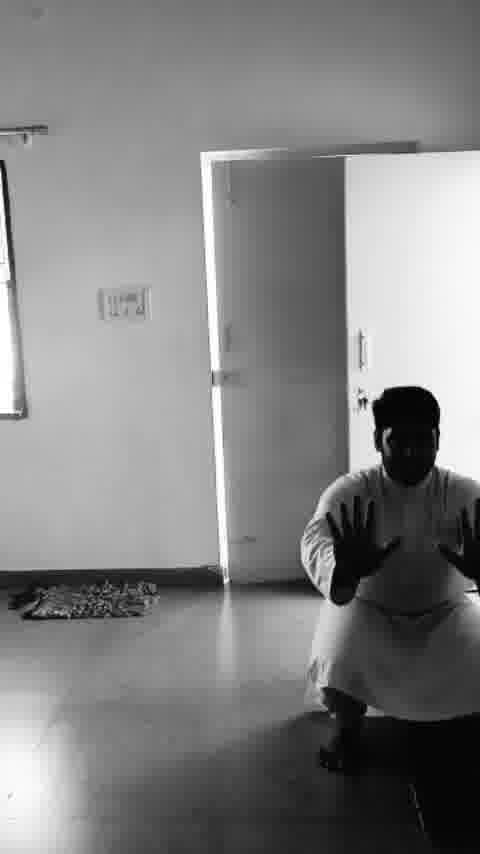duck: (281, 385, 480, 810)
